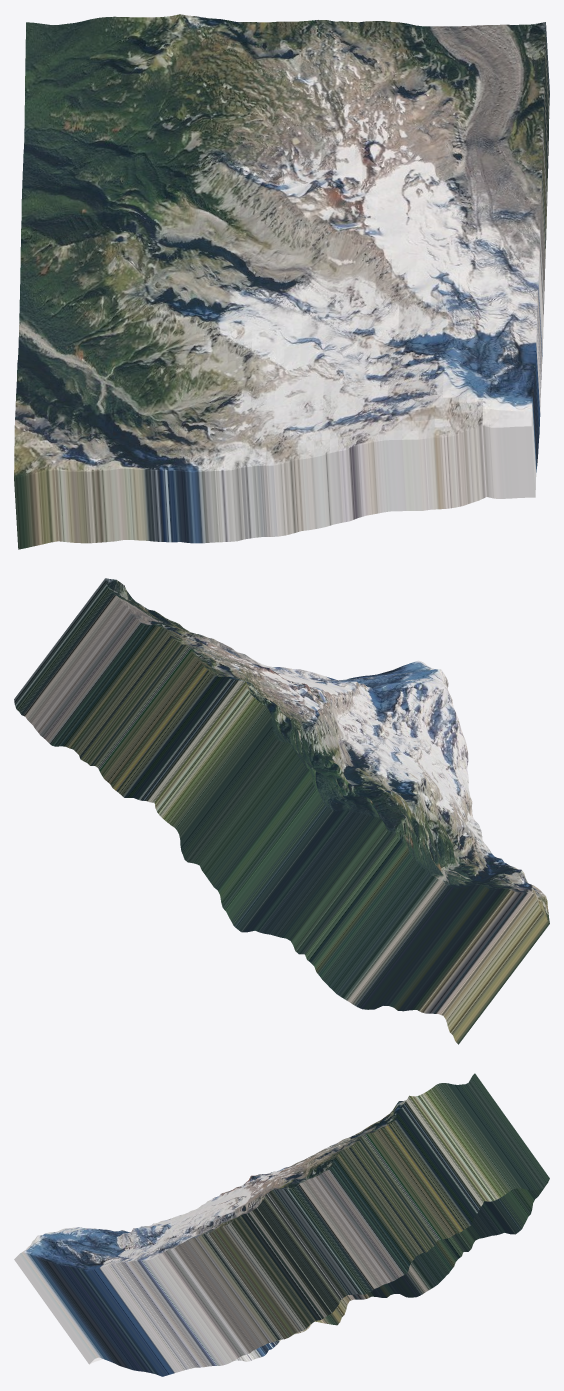
The picture shows the model from 3 angles, top to bottom: view 1: azimuth 30°, elevation 25°; view 2: azimuth 150°, elevation 25°; view 3: azimuth 270°, elevation 25°; orthographic projection. The views are drawn at different scales.
Bounding box in the file's own units: 10972 × 7688 × 12427.
1 material, 1 textured.
